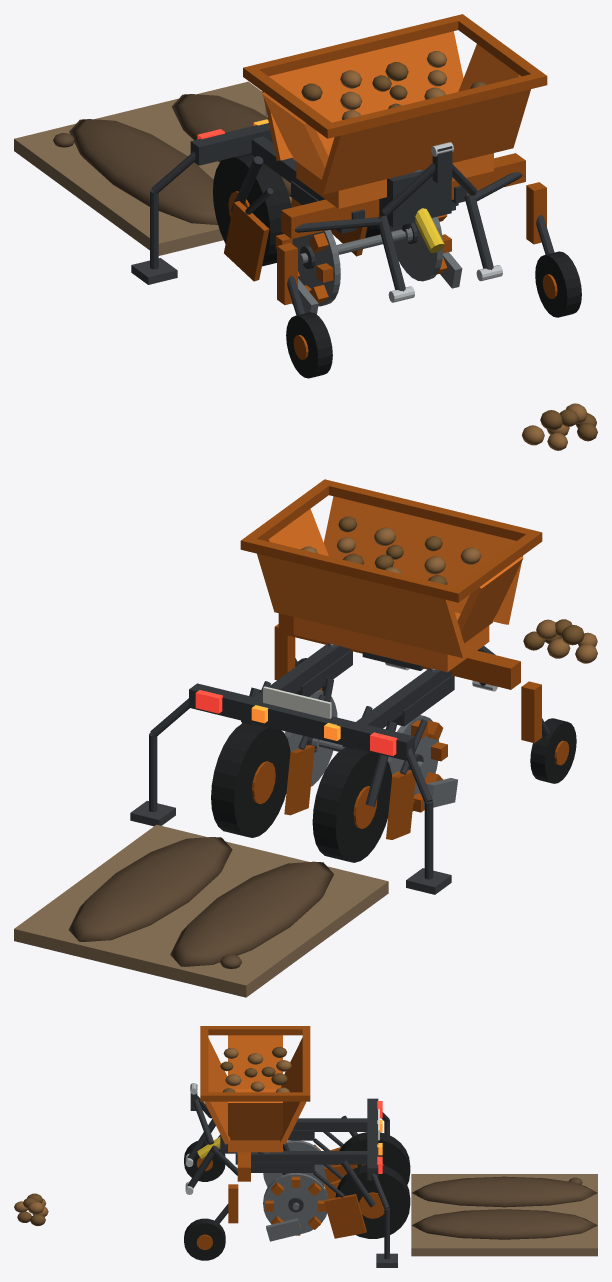
Rendered from potato_planter.glb.
3 views of the same model, one above another, from view 1: azimuth 30°, elevation 25°; view 2: azimuth 150°, elevation 25°; view 3: azimuth 270°, elevation 25° (orthographic). The views are drawn at different scales.
Visible parts, largest first — view 1: PlanterBody, PlanterProps, PlanterDisc; view 2: PlanterBody, PlanterProps, PlanterDisc; view 3: PlanterBody, PlanterProps, PlanterDisc.
Part boxes in pixels (x1,y1,x2,y2): PlanterBody: (131, 14, 581, 378); PlanterProps: (14, 81, 597, 450); PlanterDisc: (275, 214, 451, 306); PlanterBody: (130, 479, 576, 894); PlanterProps: (14, 619, 597, 997); PlanterDisc: (285, 690, 447, 812); PlanterBody: (184, 1026, 410, 1267); PlanterProps: (14, 1174, 597, 1256); PlanterDisc: (263, 1140, 328, 1235).
Bounding box in the file's own units: 2.1 × 1.59 × 5.32.
